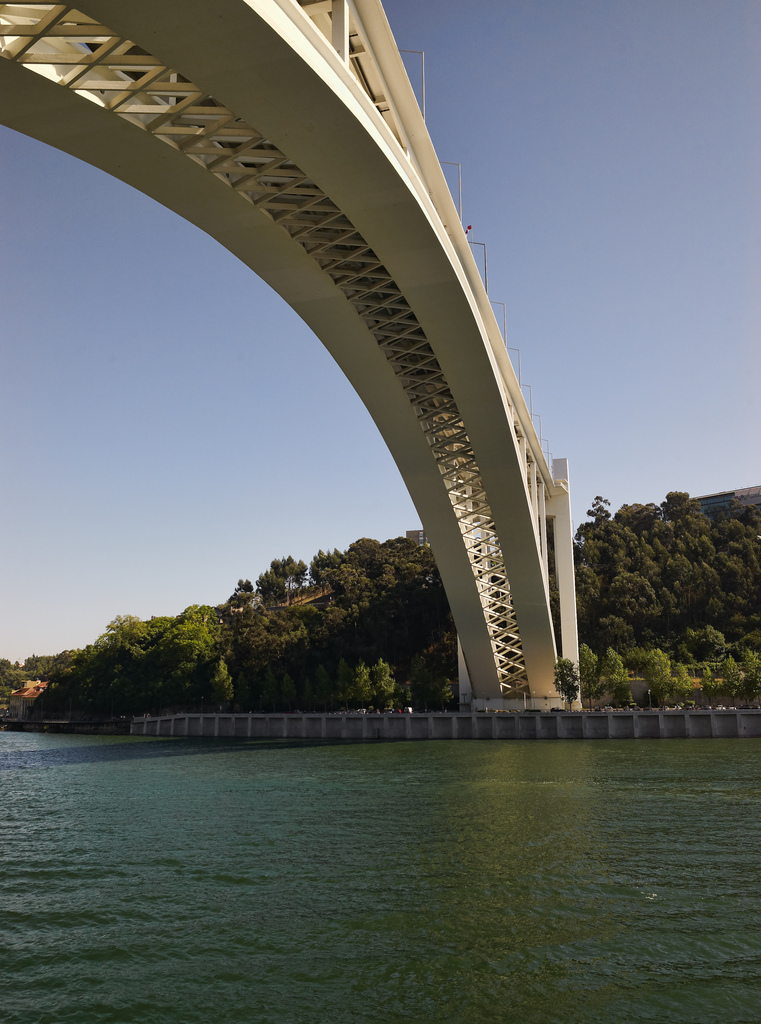arrabida: (0, 0, 583, 711)
